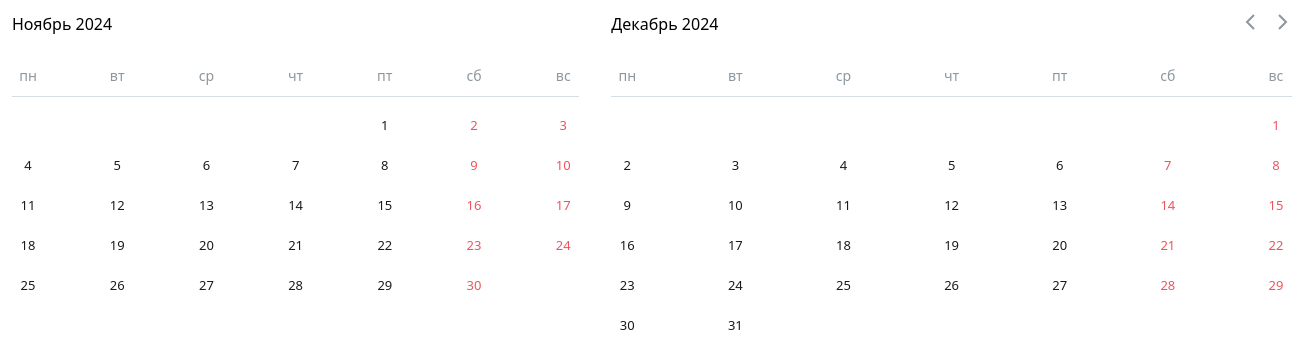
it: Компонент CalendarMonthRange › При клике на правую стрелку, каждый месяц смещается вперед (Ноябрь-Декабрь -> Декабрь-Январь)
Click the 2nd button.
click(1282, 22)  # box [1272,12,1292,32]
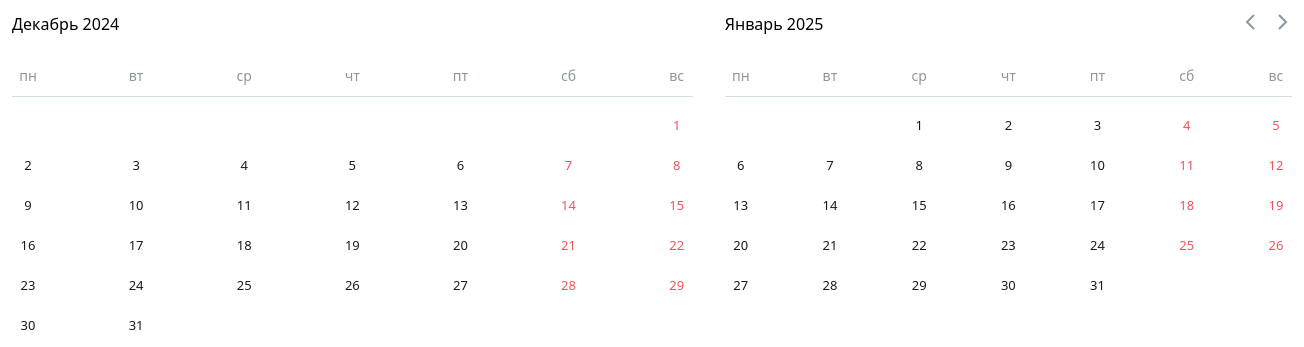
Expected: the text "Декабрь 2024" is shown, [12,13,119,35]
Result: the text "Январь 2025" is shown at [725,13,823,35]
